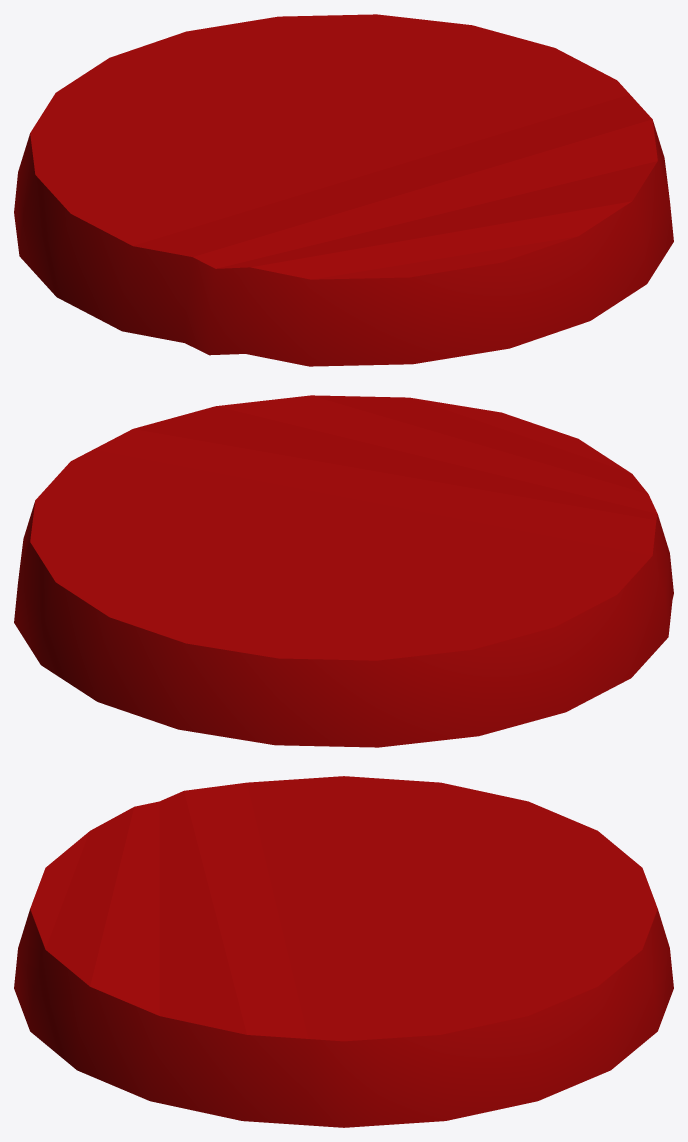
Rendered from TomaSlice4.fbx.
3 views of the same model, one above another, from view 1: azimuth 30°, elevation 25°; view 2: azimuth 150°, elevation 25°; view 3: azimuth 270°, elevation 25° (orthographic).
Parts seen in each view (by area): view 1: TomatoSlice4; view 2: TomatoSlice4; view 3: TomatoSlice4.
Part boxes in pixels (bbox=[...]): TomatoSlice4: bbox=[14, 14, 673, 366]; TomatoSlice4: bbox=[14, 395, 673, 747]; TomatoSlice4: bbox=[14, 776, 673, 1127].
Bounding box in the file's own units: 2 × 0.2843 × 2.
